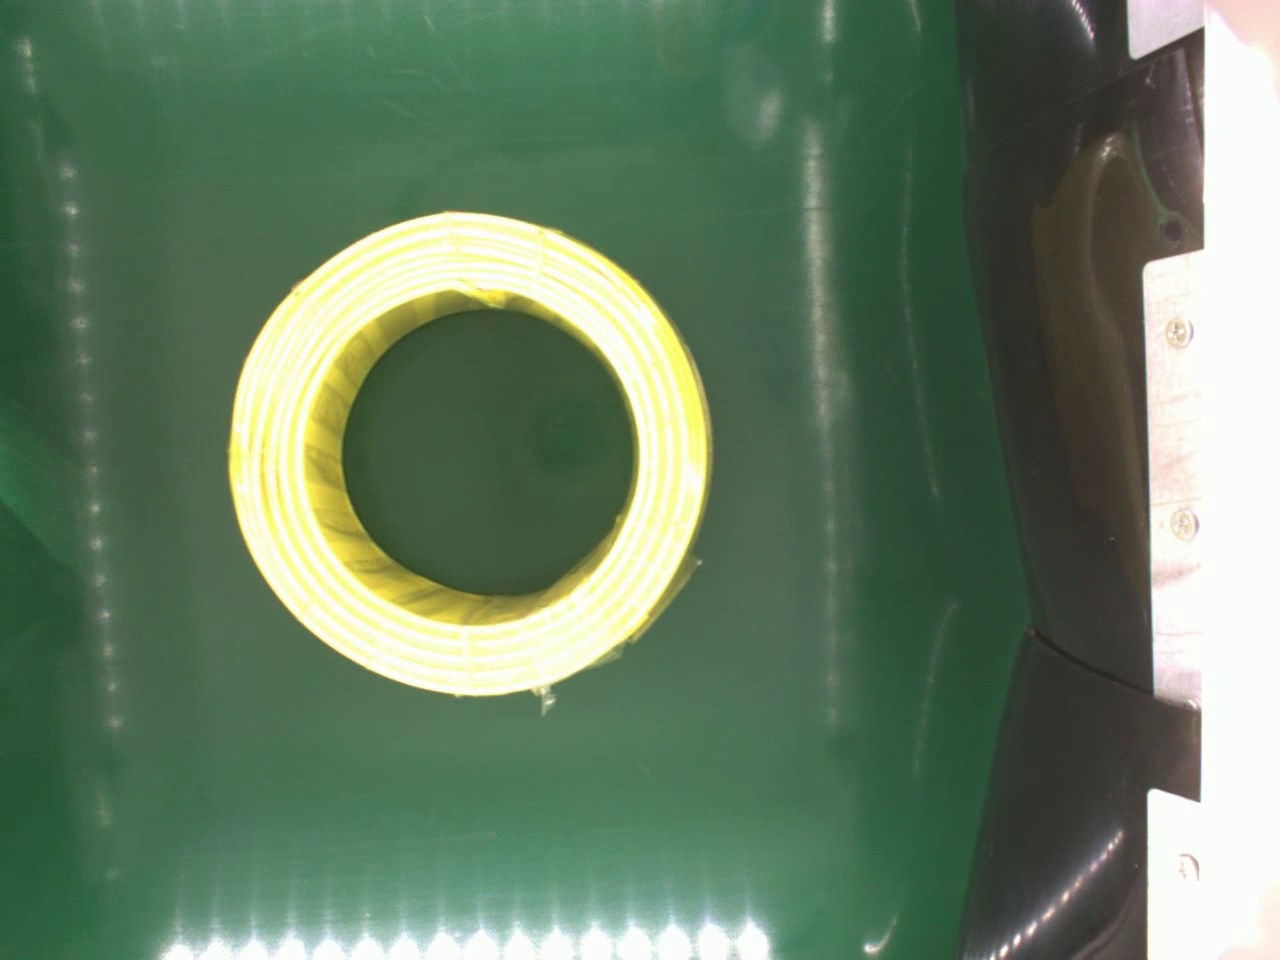yellow: (220, 206, 717, 710)
